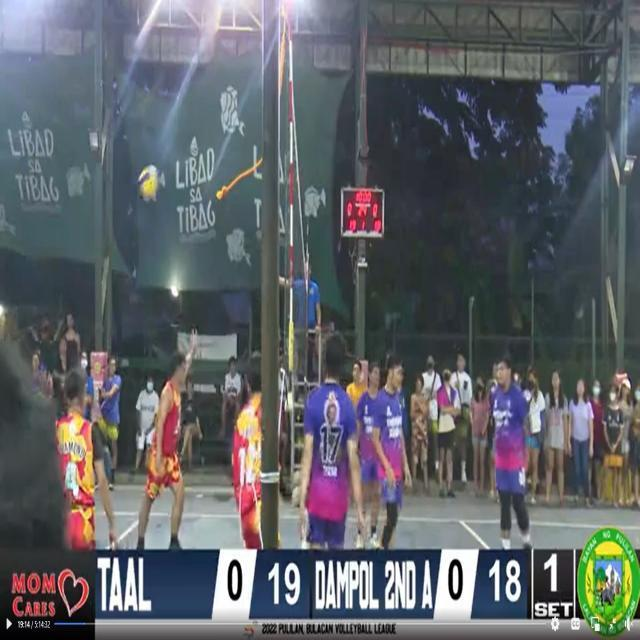volleyball: (136, 164, 162, 202)
